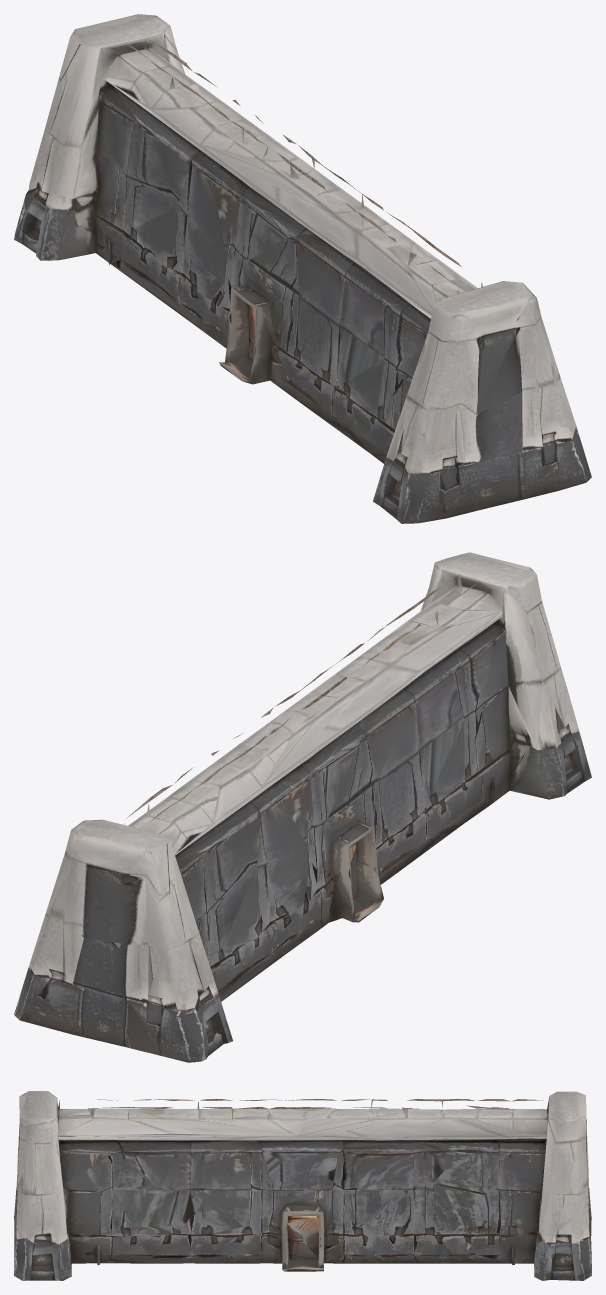
Rendered from wallSegment.glb.
3 views of the same model, one above another, from view 1: azimuth 30°, elevation 25°; view 2: azimuth 150°, elevation 25°; view 3: azimuth 270°, elevation 25° (orthographic). The views are drawn at different scales.
Visible parts, largest first — view 1: wallSegment; view 2: wallSegment; view 3: wallSegment.
Part boxes in pixels (x1,y1,x2,y2): wallSegment: (14,14,591,523); wallSegment: (14,552,591,1062); wallSegment: (14,1091,591,1280).
Size of the model in its own units: 6.65 by 6.65 by 24.
Materials: 1 (1 with a texture image).
